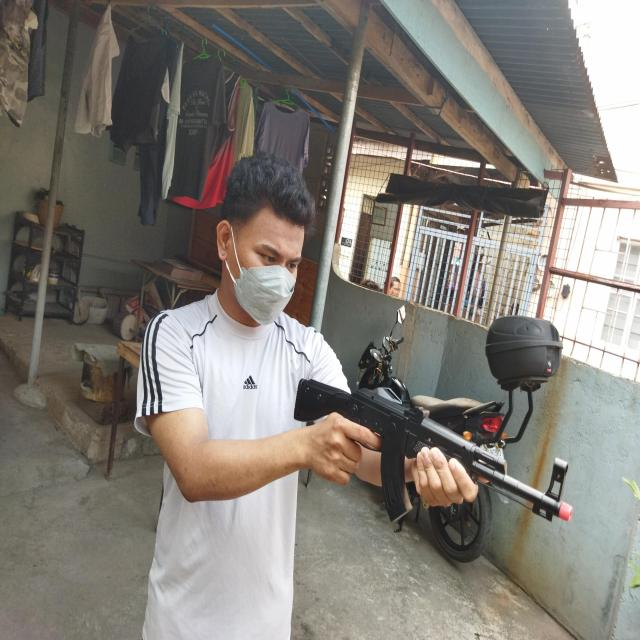rifle: (293, 371, 573, 522)
